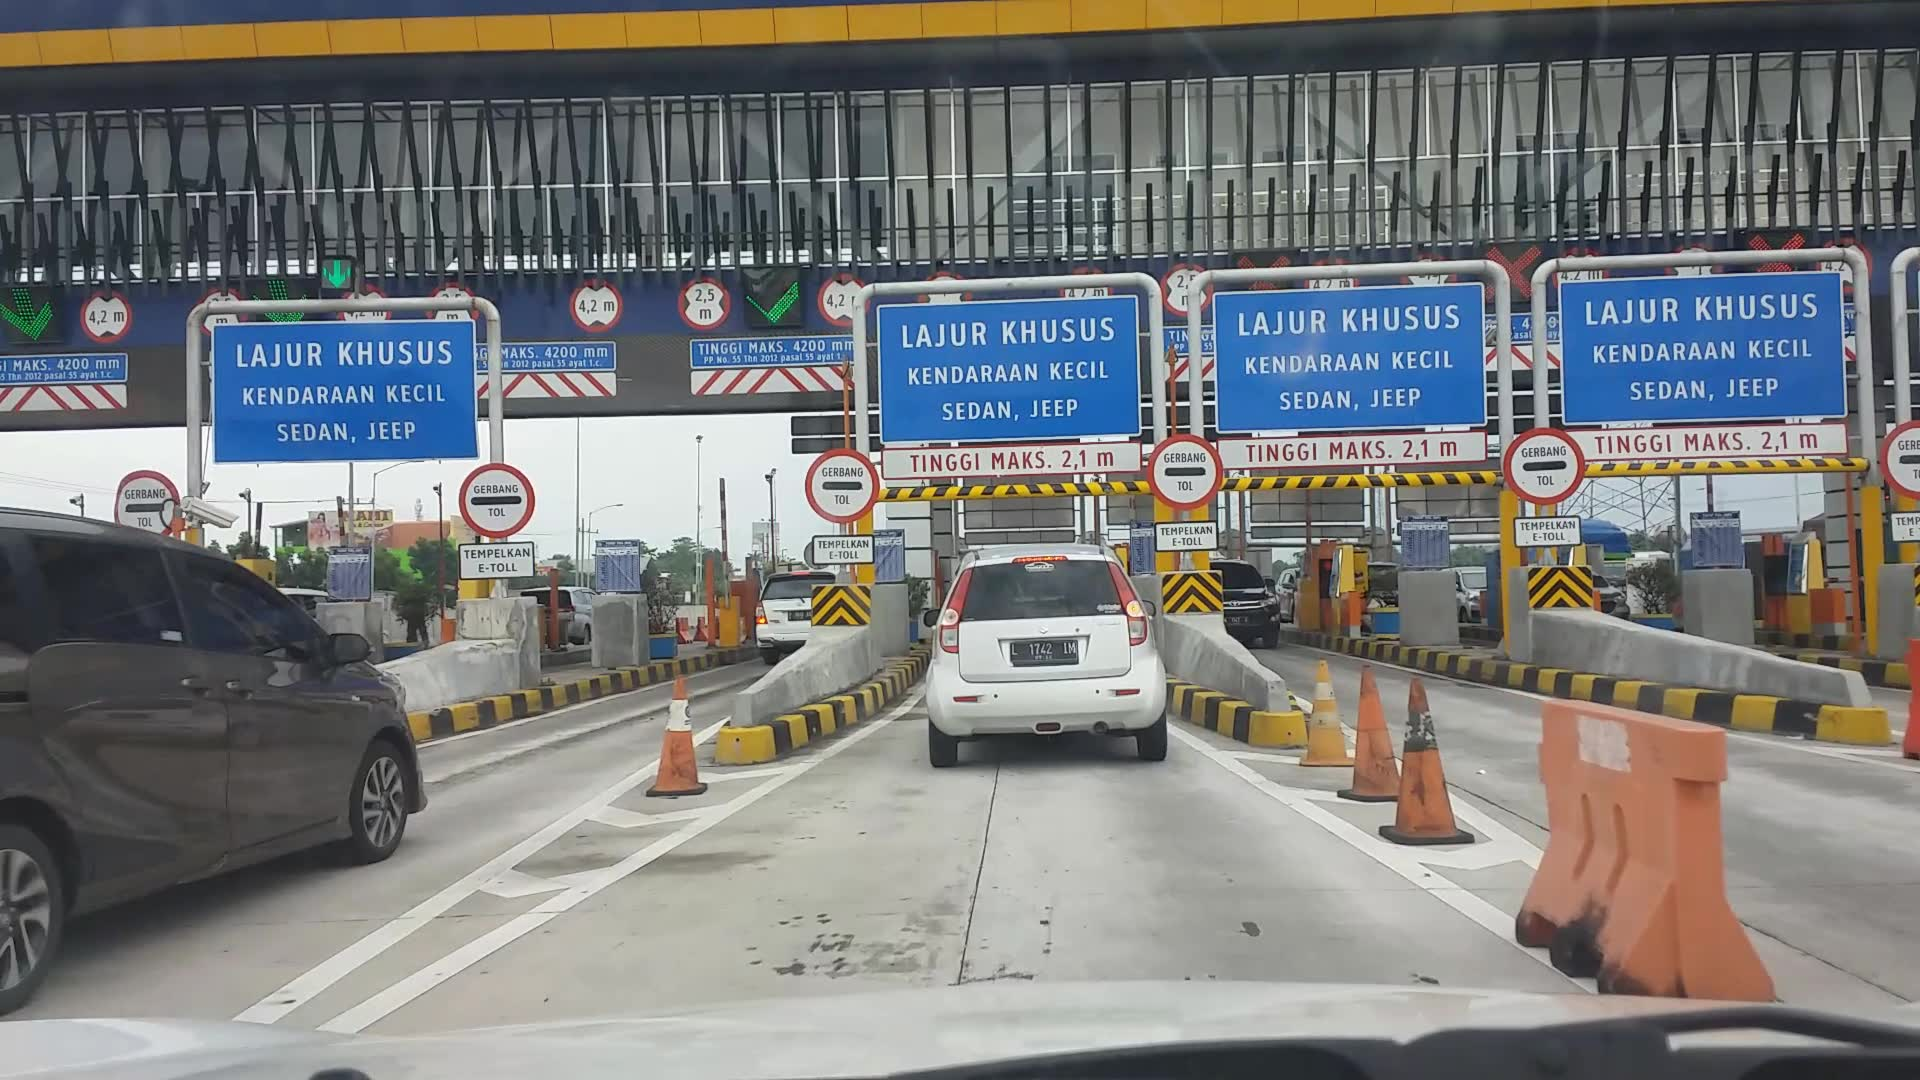plate_positive: (1010, 641, 1077, 665)
